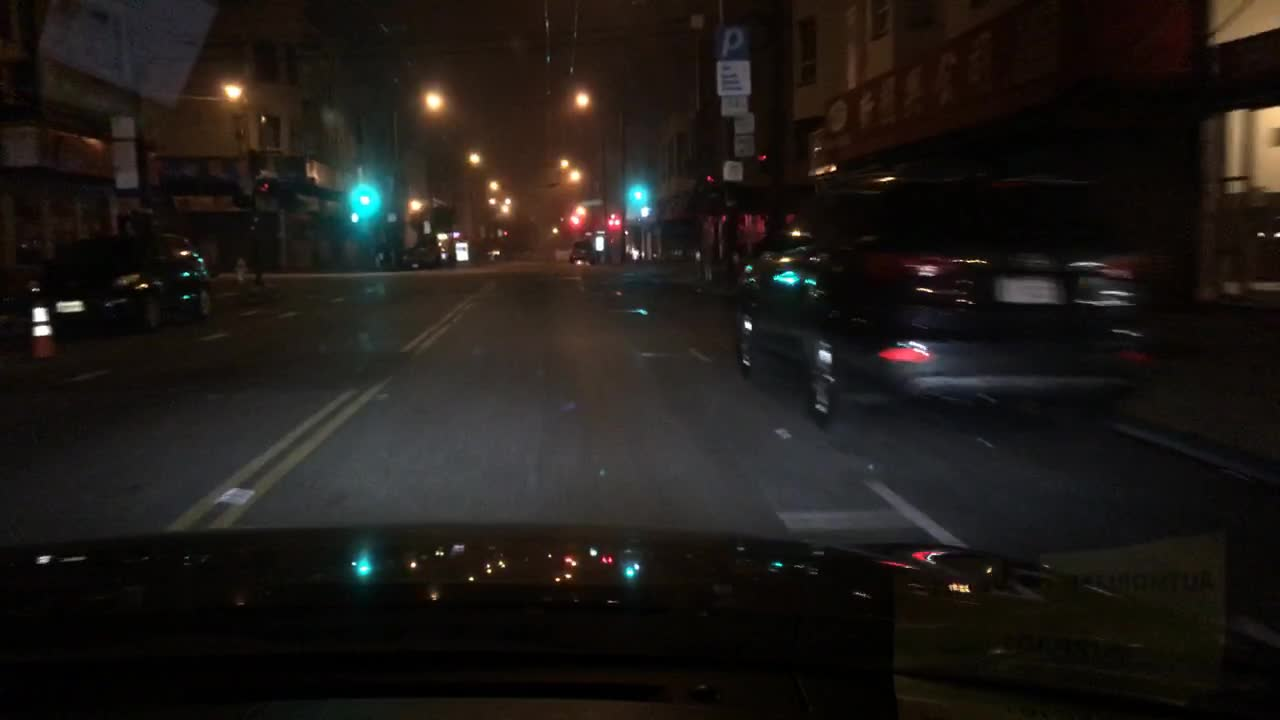car: (728, 168, 1160, 434), (26, 229, 215, 333), (567, 240, 601, 267), (399, 247, 436, 270)
traffic light: (356, 189, 379, 213), (630, 185, 646, 207), (566, 214, 577, 230), (575, 205, 586, 220), (607, 217, 618, 229)
traffic sign: (714, 27, 756, 97), (109, 140, 142, 192), (108, 116, 137, 138), (719, 98, 751, 117), (721, 159, 744, 183), (736, 117, 757, 137), (736, 140, 759, 157)
